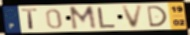0: (44, 8, 64, 30)
D: (146, 5, 169, 28)
L: (97, 7, 118, 29)
M: (68, 5, 99, 31)
T: (21, 8, 40, 31)
V: (120, 4, 145, 30)
